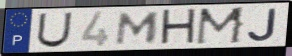4: (79, 11, 112, 48)
H: (158, 7, 199, 47)
J: (245, 7, 279, 43)
M: (194, 6, 248, 47), (113, 11, 162, 46)
U: (34, 12, 75, 49)
